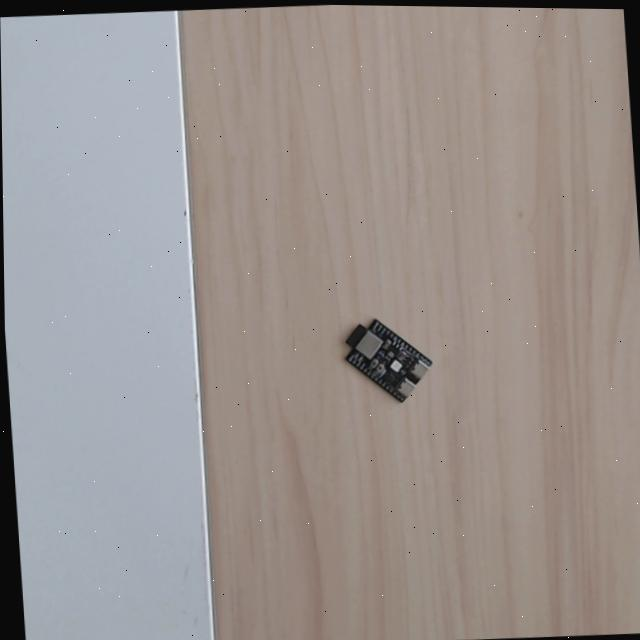ESP32C3-DevKit: (335, 309, 438, 407)
